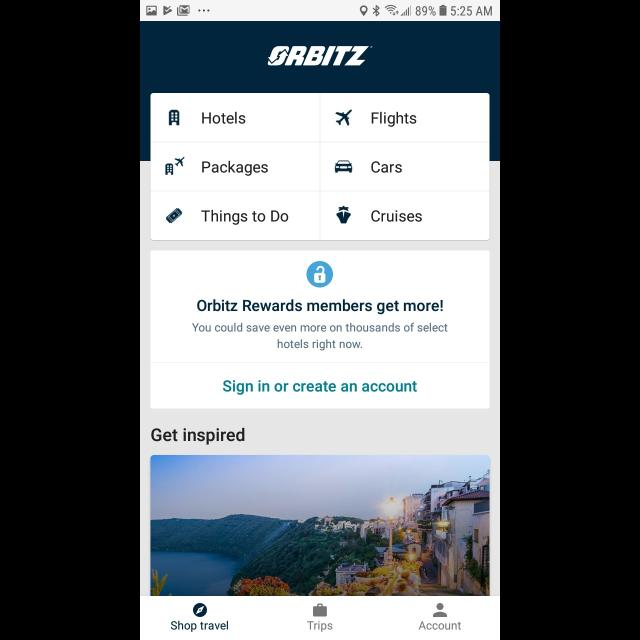icon: (306, 260, 334, 288), (165, 208, 182, 224), (193, 603, 207, 617), (433, 603, 447, 617), (313, 604, 327, 616)
image: (150, 456, 490, 596), (268, 46, 372, 66), (165, 157, 185, 176), (336, 206, 352, 224), (334, 160, 354, 173), (336, 110, 352, 126), (170, 110, 180, 126)
text: (192, 322, 448, 351), (197, 299, 443, 315), (223, 380, 417, 396), (151, 427, 245, 445), (201, 209, 289, 225), (202, 160, 268, 176), (372, 111, 416, 127), (172, 620, 228, 632), (372, 210, 422, 222), (202, 112, 246, 125), (418, 620, 462, 630), (372, 161, 402, 173), (307, 620, 333, 632)
uppertaskbar: (140, 1, 500, 22)
